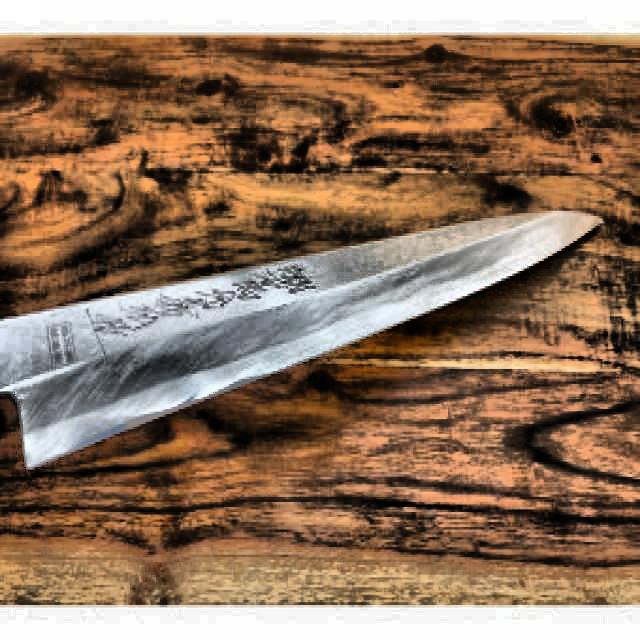knife: (0, 209, 602, 475)
